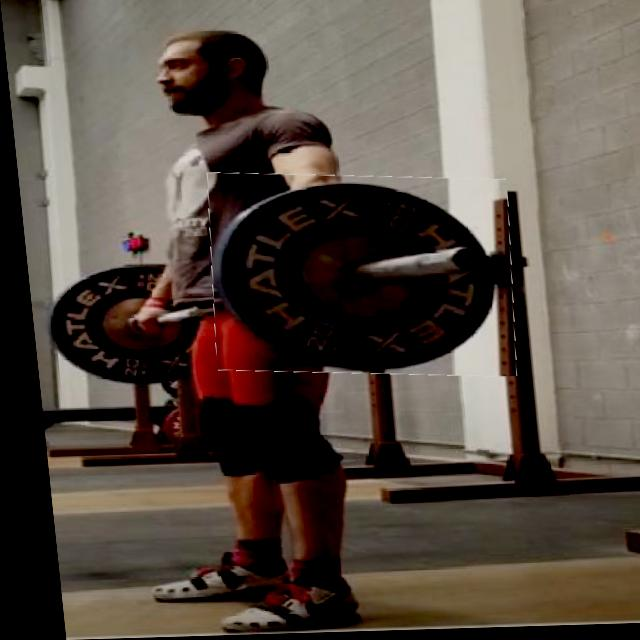barbell: (198, 172, 517, 384)
